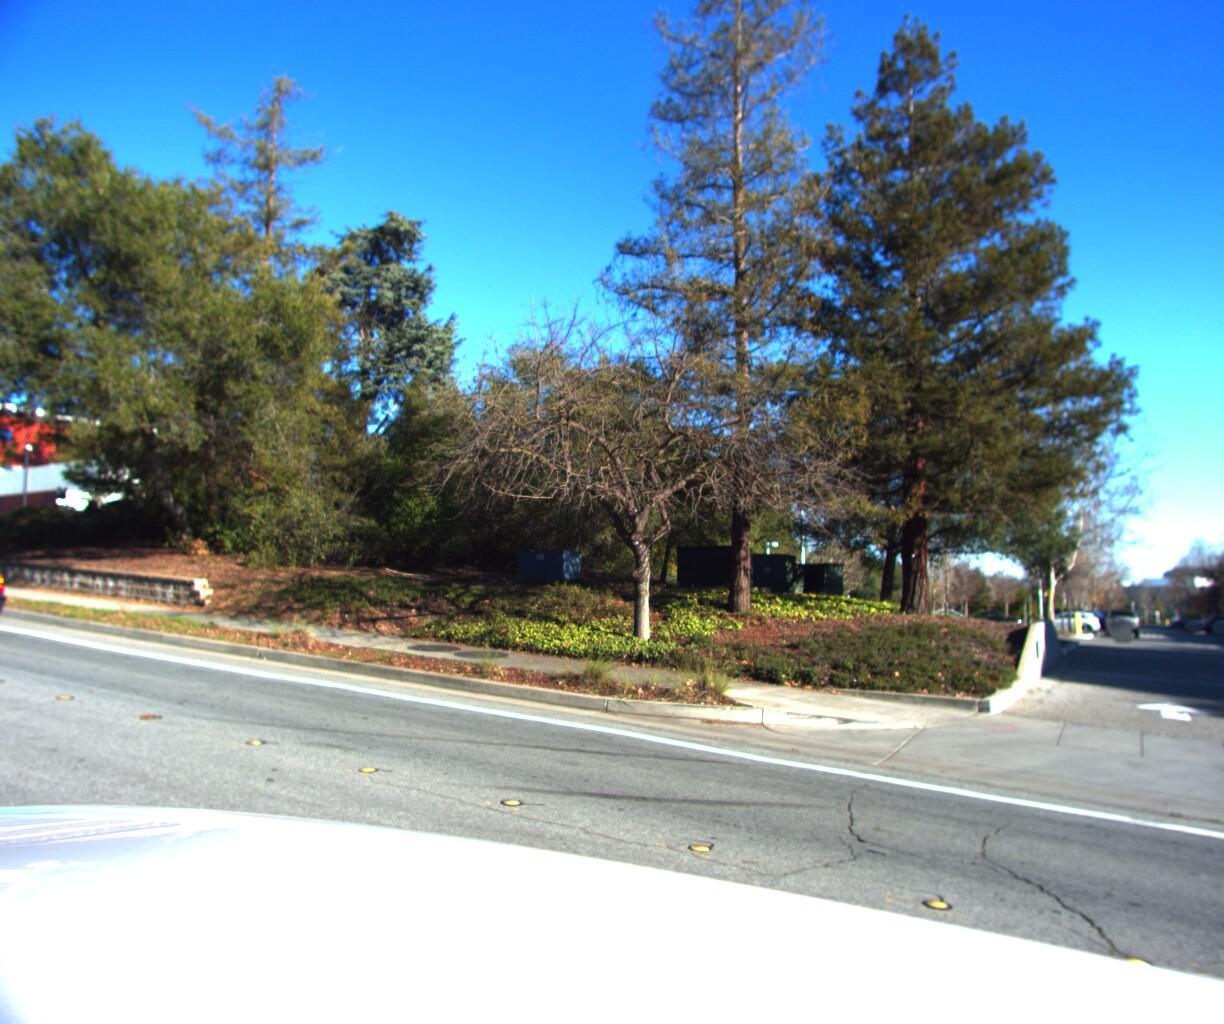car: (0, 525, 19, 645)
